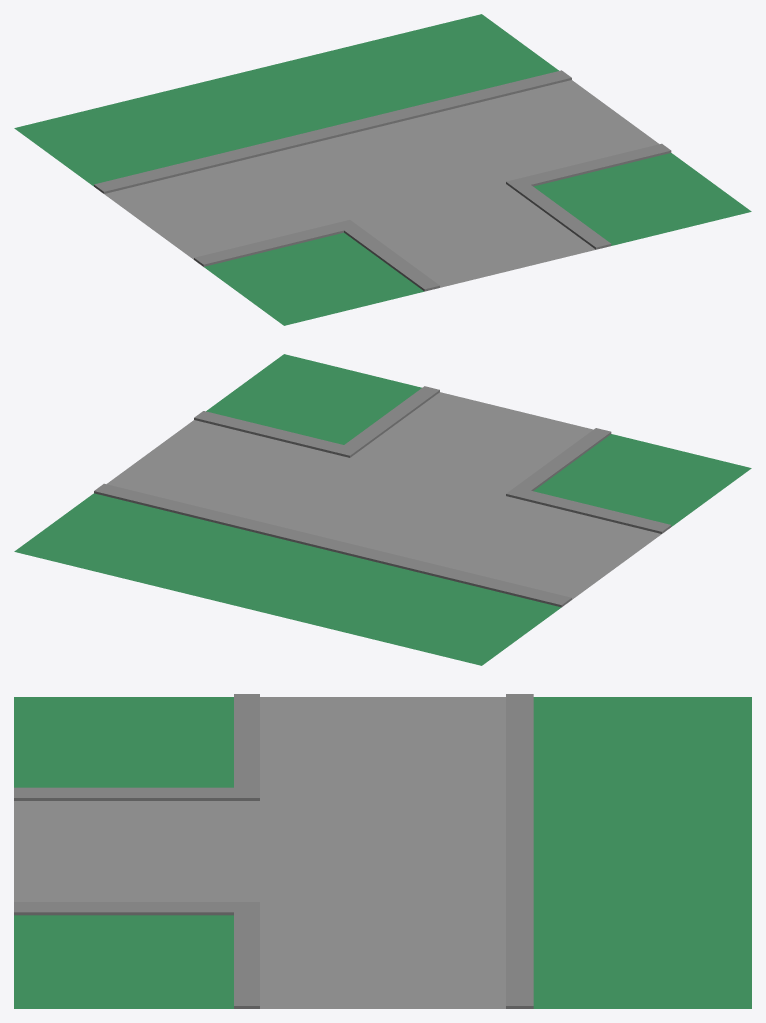
Rendered from Park5-ThreeWay.fbx.
3 renders of one model, top to bottom at view 1: azimuth 30°, elevation 25°; view 2: azimuth 150°, elevation 25°; view 3: azimuth 270°, elevation 25°, orthographic. The views are drawn at different scales.
Visible parts, largest first — view 1: Park5; view 2: Park5; view 3: Park5.
Boxes of the visible parts, x1,y1,x2,y2 form: Park5: (14, 14, 751, 325); Park5: (14, 354, 751, 665); Park5: (14, 694, 751, 1008).
Size of the model in its own units: 350 by 1.59 by 350.
